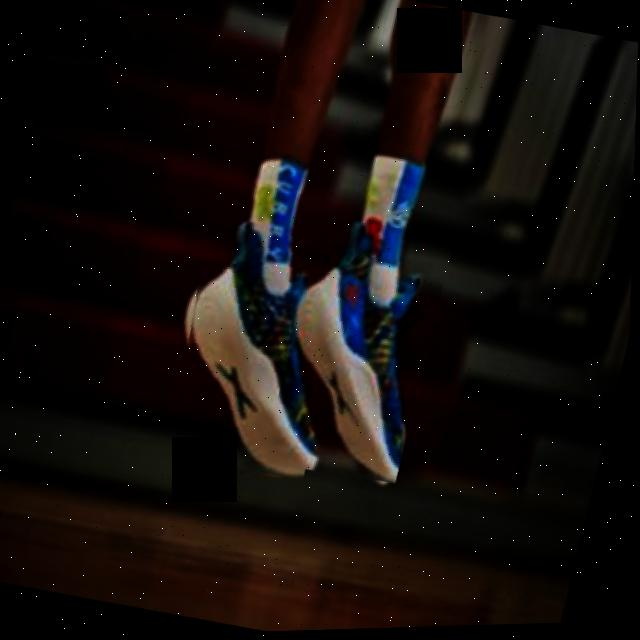shoe: (155, 211, 362, 487), (256, 211, 456, 492)
